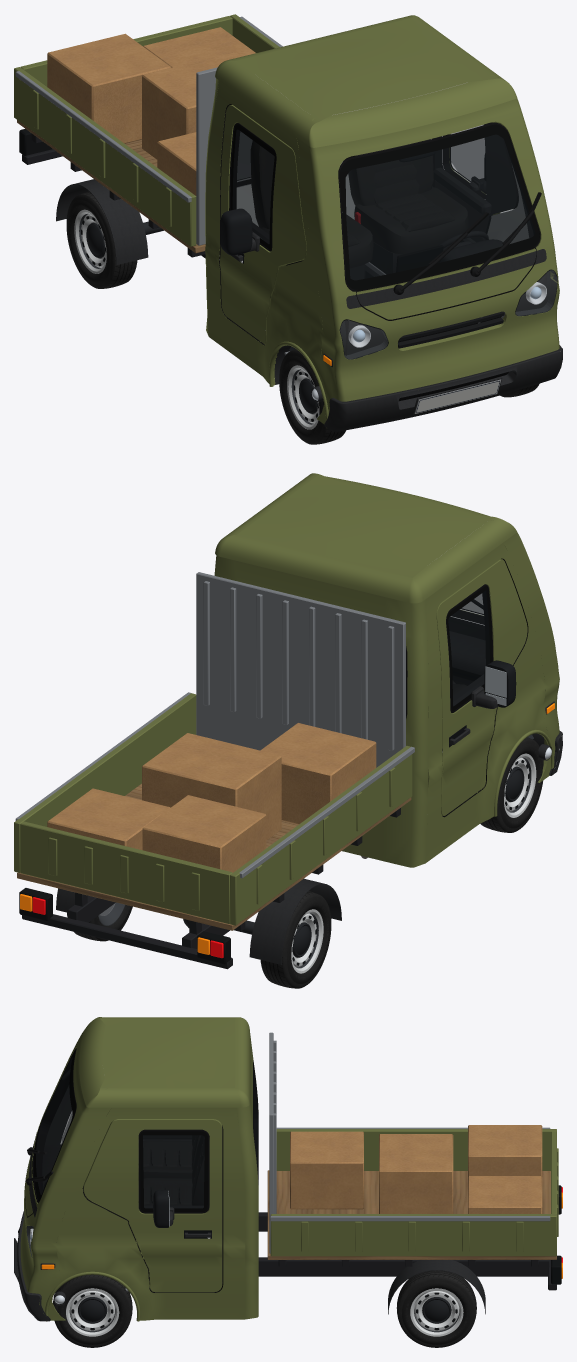
File: kei-truck-with-crates.glb
3 views of the same model, one above another, from view 1: azimuth 30°, elevation 25°; view 2: azimuth 150°, elevation 25°; view 3: azimuth 270°, elevation 25° (orthographic). The views are drawn at different scales.
Parts seen in each view (by area): view 1: Kei_Truck_Crates, Door_R, Drop_Side_R, Door_L, Wheel_Rear_R, Wheel_Front_R, Tailgate, Drop_Side_L; view 2: Kei_Truck_Crates, Door_R, Tailgate, Drop_Side_R, Drop_Side_L, Wheel_Rear_R, Wheel_Front_R, Wheel_Rear_L; view 3: Kei_Truck_Crates, Door_L, Drop_Side_L, Wheel_Rear_L, Wheel_Front_L, Drop_Side_R, Tailgate.
Part boxes in pixels (x1,y1,x2,y2): Kei_Truck_Crates: (17, 15, 562, 431); Door_R: (219, 105, 306, 344); Drop_Side_R: (14, 67, 196, 246); Door_L: (433, 122, 518, 242); Wheel_Rear_R: (66, 191, 137, 288); Wheel_Front_R: (279, 349, 345, 444); Tailgate: (20, 16, 232, 86); Drop_Side_L: (230, 14, 282, 52); Kei_Truck_Crates: (17, 473, 562, 969); Door_R: (436, 559, 527, 815); Tailgate: (20, 821, 232, 923); Drop_Side_R: (230, 746, 414, 925); Drop_Side_L: (14, 692, 196, 872); Wheel_Rear_R: (260, 891, 331, 988); Wheel_Front_R: (480, 737, 543, 832); Wheel_Rear_L: (67, 902, 132, 941); Kei_Truck_Crates: (14, 1017, 562, 1321); Door_L: (83, 1119, 222, 1292); Drop_Side_L: (270, 1214, 556, 1256); Wheel_Rear_L: (396, 1270, 476, 1347); Wheel_Front_L: (53, 1274, 132, 1347); Drop_Side_R: (276, 1127, 556, 1170); Tailgate: (551, 1131, 558, 1236).
Size of the model in its own units: 1.82 by 1.9 by 3.7.
Materials: 54 (11 with a texture image).
